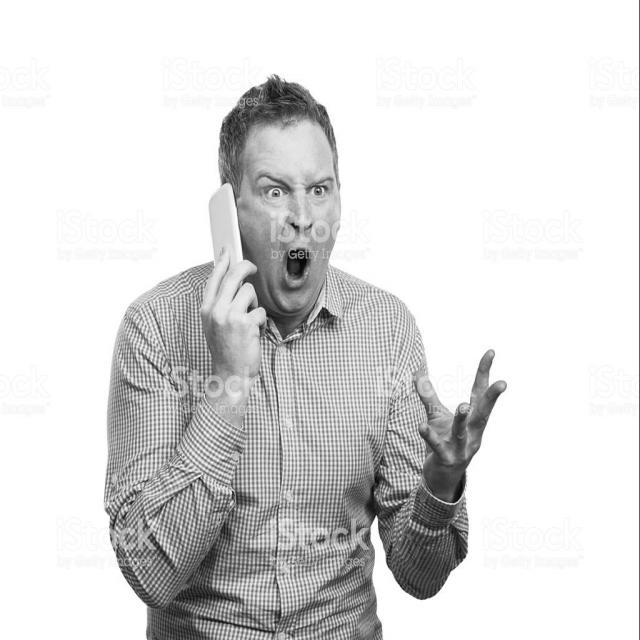phone: (176, 154, 306, 388)
